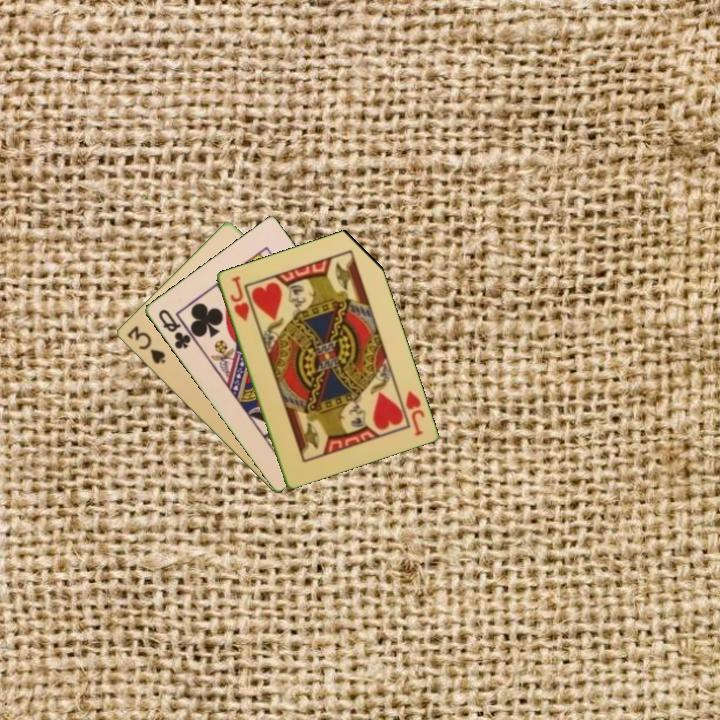3s: (123, 322, 168, 367)
Jh: (226, 272, 252, 324), (401, 387, 427, 439)
Qc: (154, 305, 194, 352)
